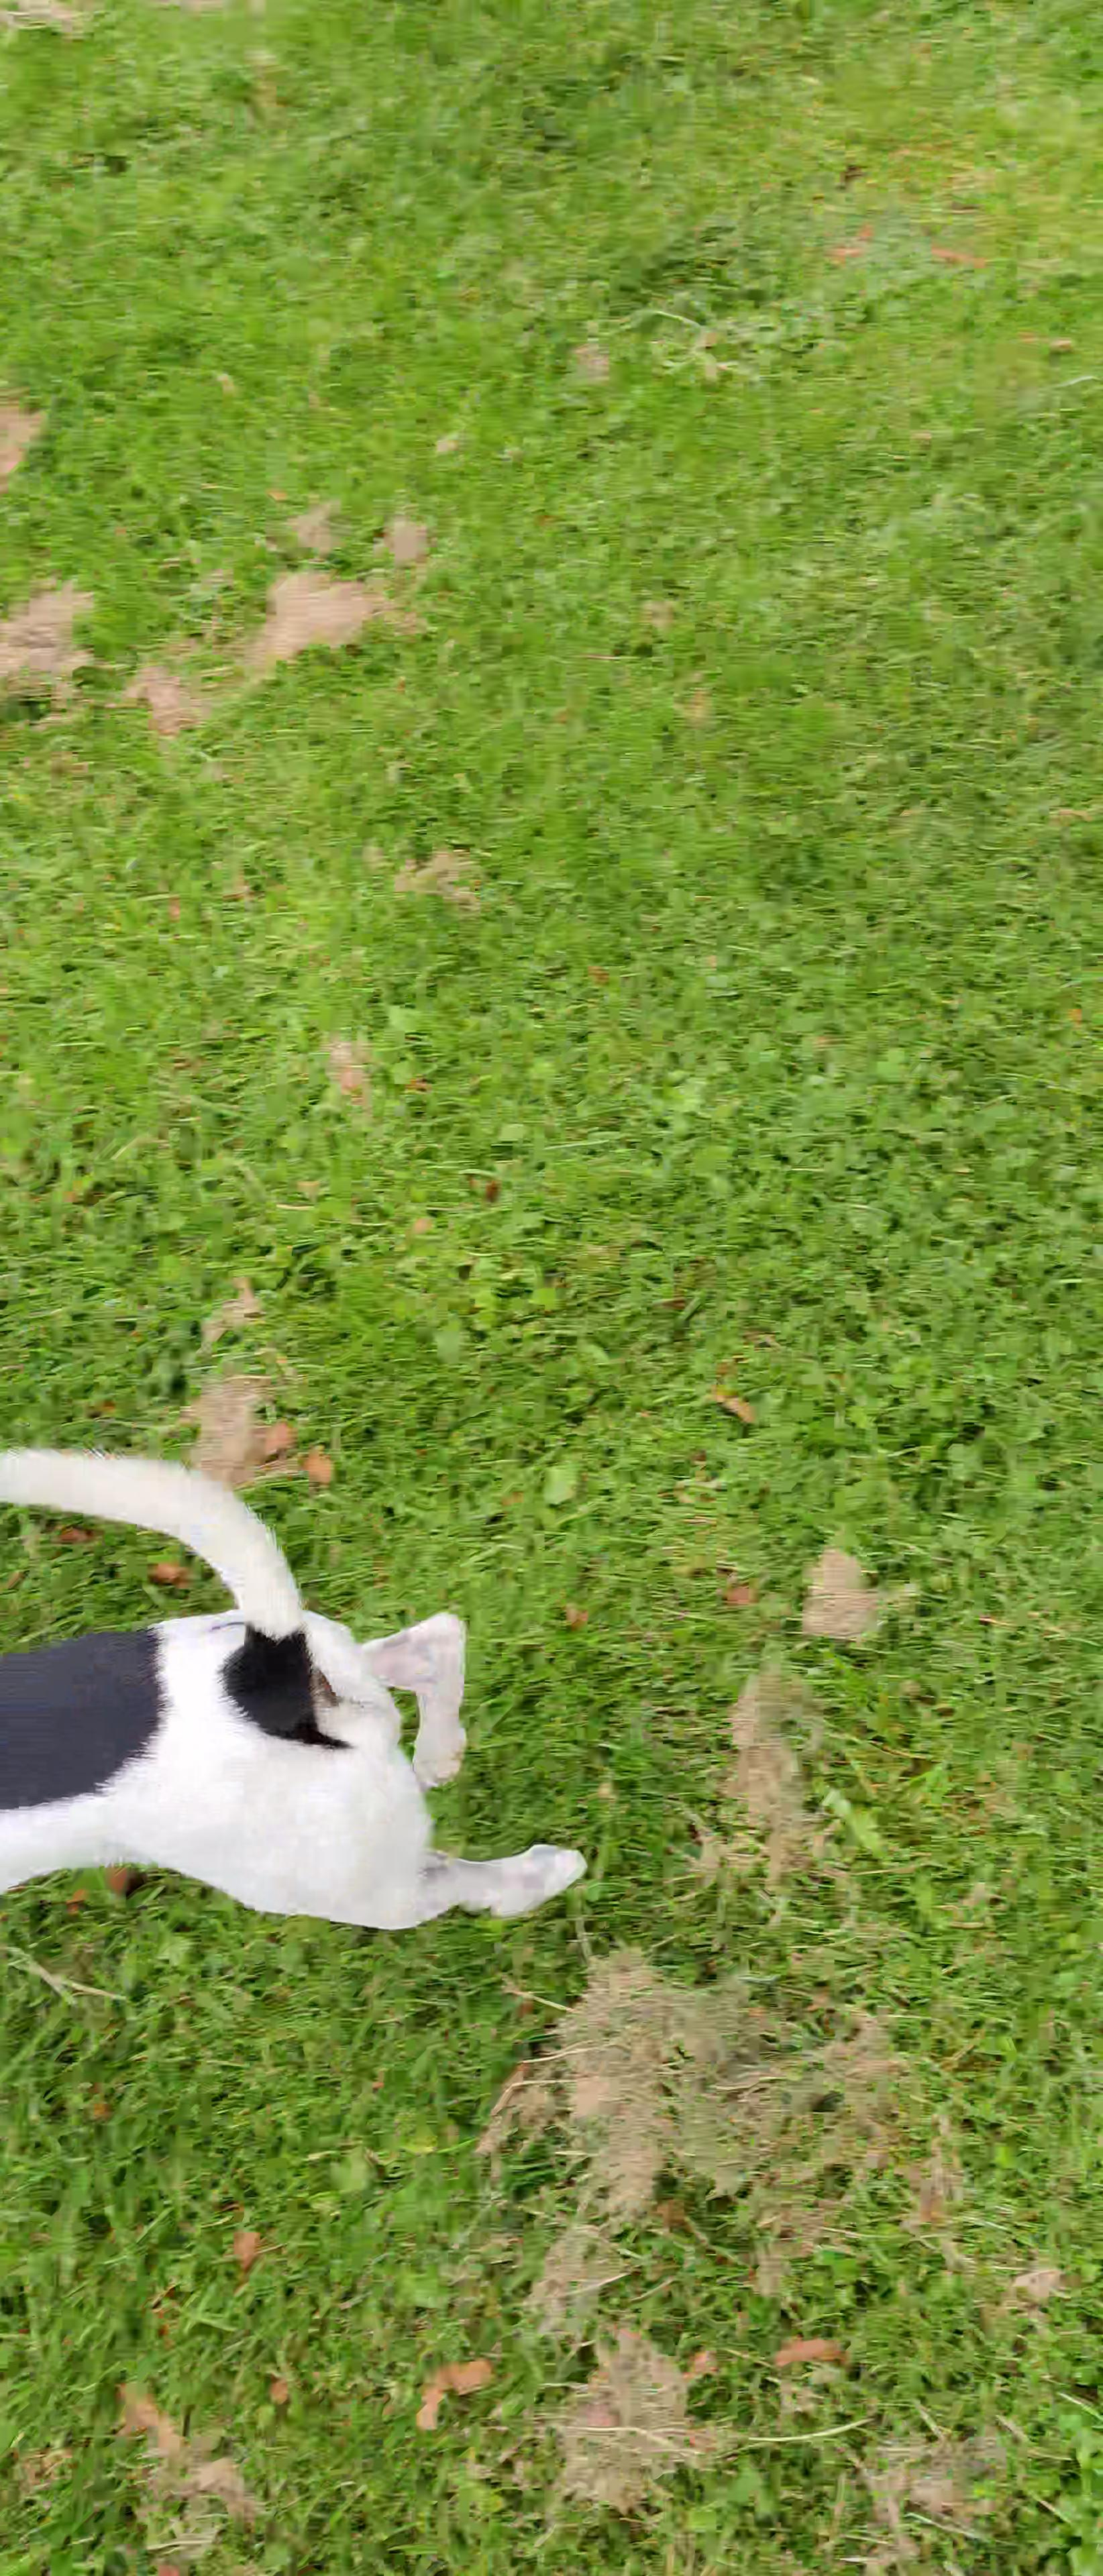Dog: (0, 1390, 631, 1978)
